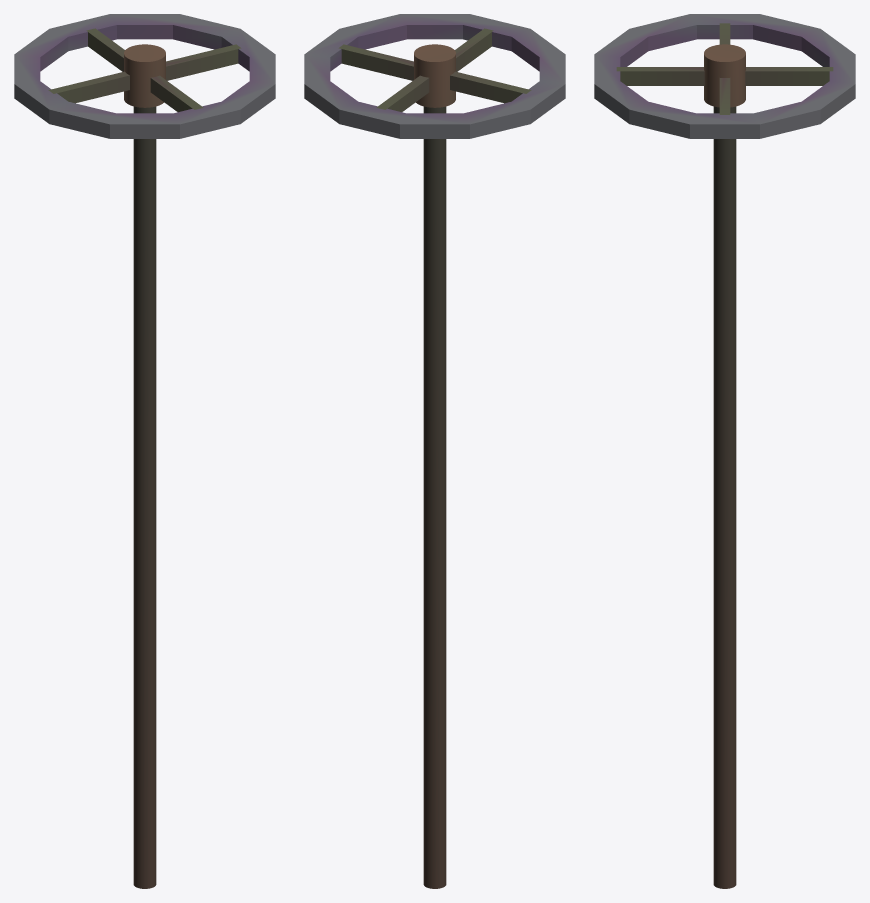
The picture shows the model from 3 angles, left to right: view 1: azimuth 30°, elevation 25°; view 2: azimuth 150°, elevation 25°; view 3: azimuth 270°, elevation 25°; orthographic projection.
Visible parts, largest first — view 1: shaft, rim, spoke, hub; view 2: shaft, rim, spoke, hub; view 3: shaft, rim, spoke, hub.
Boxes of the visible parts, left/top/right/bottom form: shaft: left=133, top=106, right=156, bottom=888; rim: left=14, top=14, right=275, bottom=138; spoke: left=48, top=28, right=241, bottom=112; hub: left=124, top=44, right=165, bottom=107; shaft: left=423, top=106, right=446, bottom=888; rim: left=304, top=14, right=565, bottom=138; spoke: left=338, top=28, right=531, bottom=111; hub: left=414, top=44, right=455, bottom=107; shaft: left=713, top=106, right=736, bottom=888; rim: left=594, top=14, right=855, bottom=138; spoke: left=616, top=23, right=833, bottom=114; hub: left=704, top=44, right=745, bottom=107.
Size of the model in its own units: 0.342 by 1.2 by 0.342.
